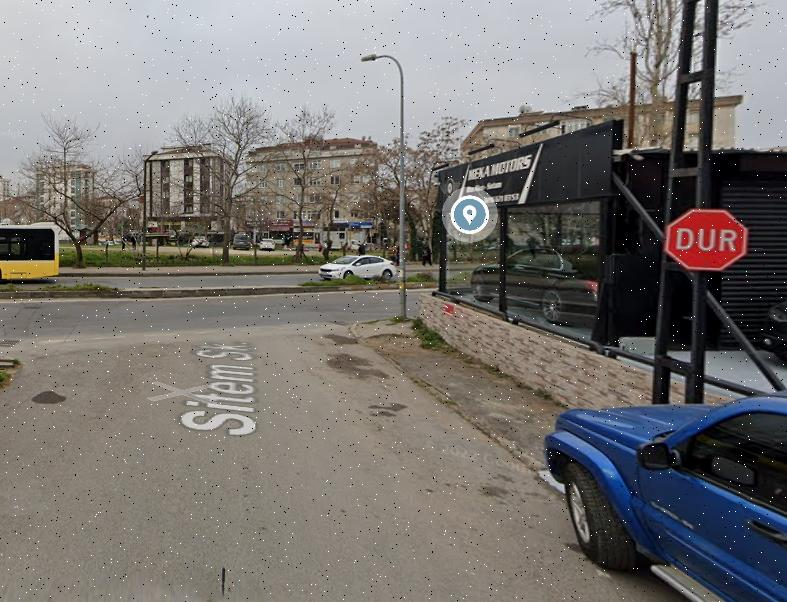stop: (667, 209, 746, 270)
